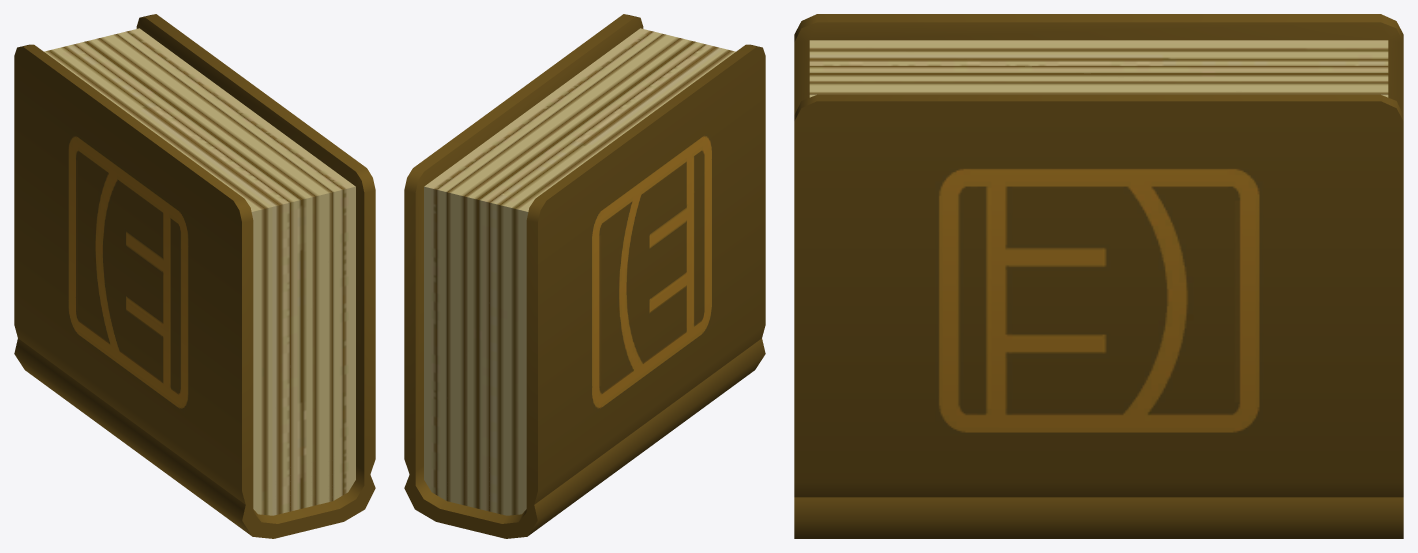
Rendered from book brown.glb.
3 renders of one model, left to right at view 1: azimuth 30°, elevation 25°; view 2: azimuth 150°, elevation 25°; view 3: azimuth 270°, elevation 25°, orthographic. The views are drawn at different scales.
Parts seen in each view (by area): view 1: Book_LOD0; view 2: Book_LOD0; view 3: Book_LOD0.
Boxes of the visible parts, bbox=[...] form: Book_LOD0: bbox=[14, 14, 375, 538]; Book_LOD0: bbox=[404, 14, 765, 538]; Book_LOD0: bbox=[794, 14, 1403, 538].
Size of the model in its own units: 0.1223 by 0.2972 by 0.3614.
1 material, 1 textured.
